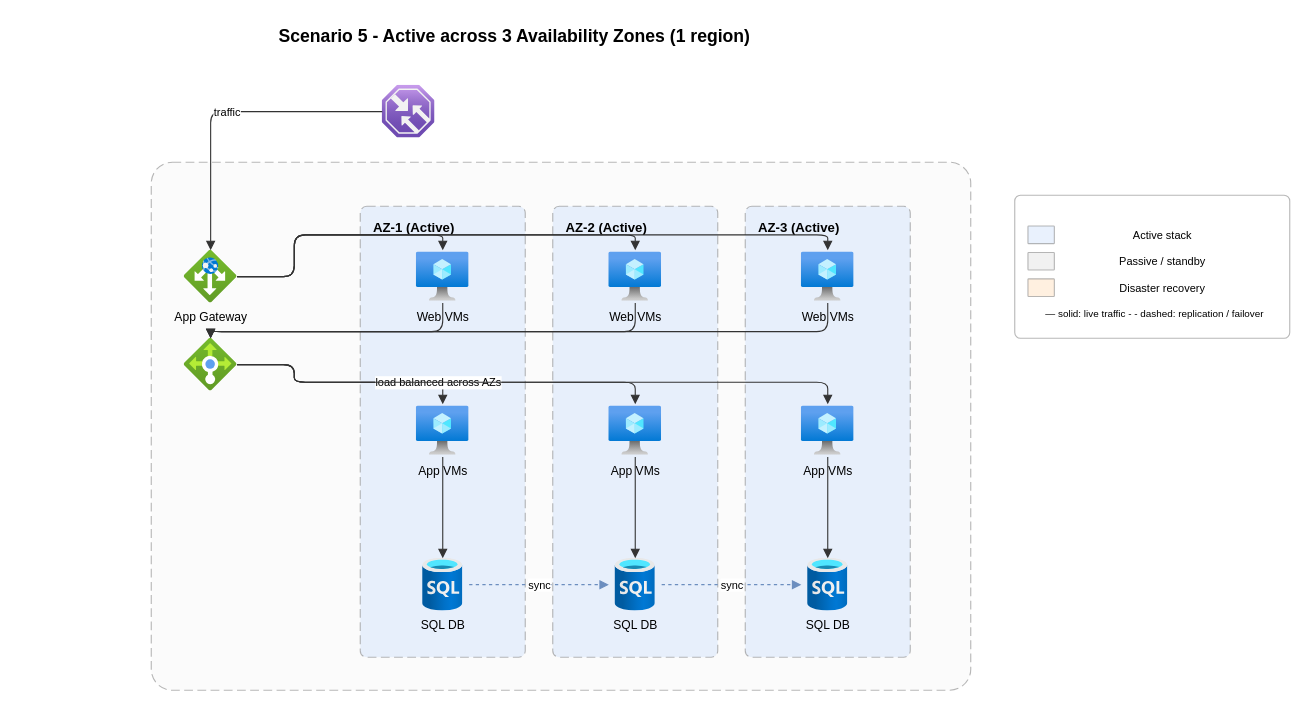
Some shapes in this 1309 by 710 pixel diagram are drawn without their labels. Here are the shapes that lost their labels. From the top down, the box of each, then its label:
(382, 85, 435, 138): Traffic Manager (DNS)
(1014, 194, 1290, 338): Legend
(184, 338, 237, 391): Internal LB
(150, 161, 971, 690): Region 1 (3 AZ Active/Active/Active)
